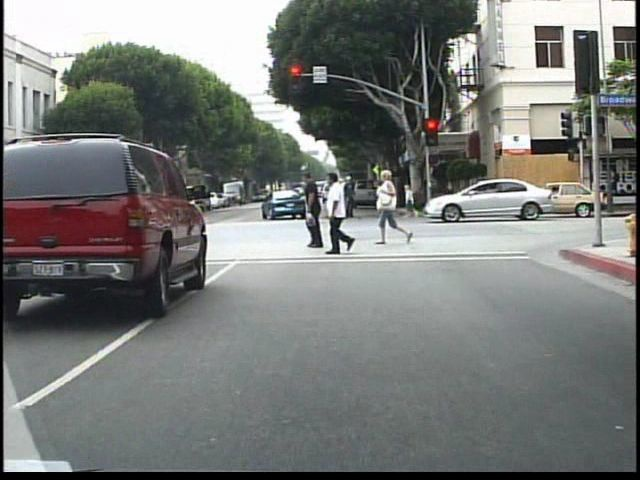person: (320, 170, 362, 256), (377, 168, 417, 245), (303, 168, 329, 255), (333, 175, 354, 222), (472, 169, 492, 215), (340, 173, 358, 221), (124, 185, 142, 229), (149, 183, 165, 232), (324, 180, 343, 221), (3, 195, 21, 238), (374, 179, 391, 222), (4, 199, 19, 236)
